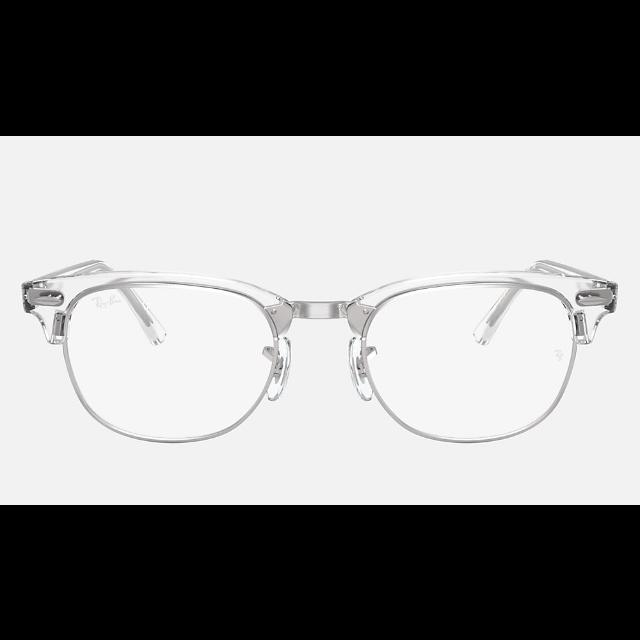glasses: (22, 260, 618, 444)
